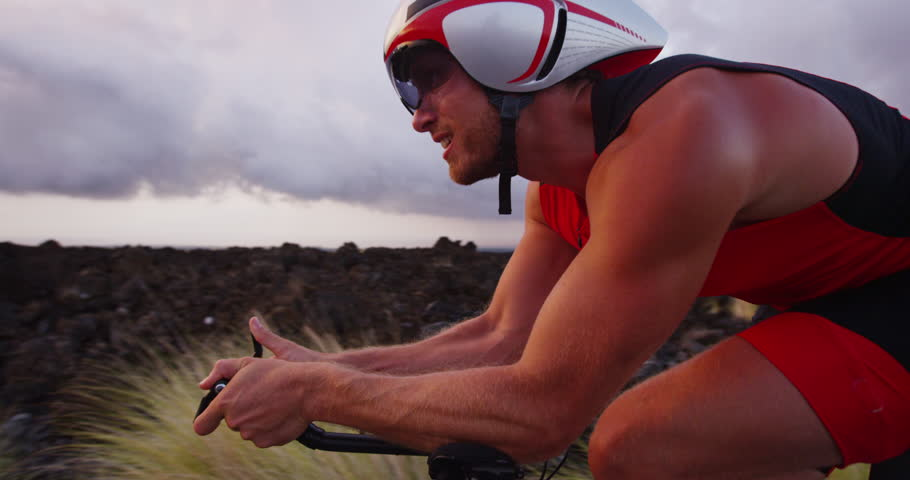helmet: (382, 1, 669, 184)
